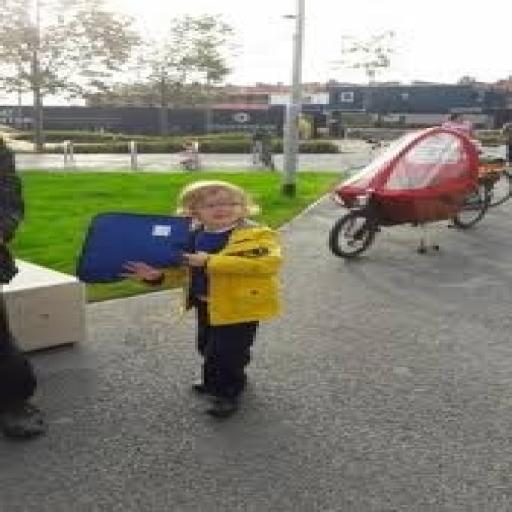cycling: (119, 177, 292, 420)
